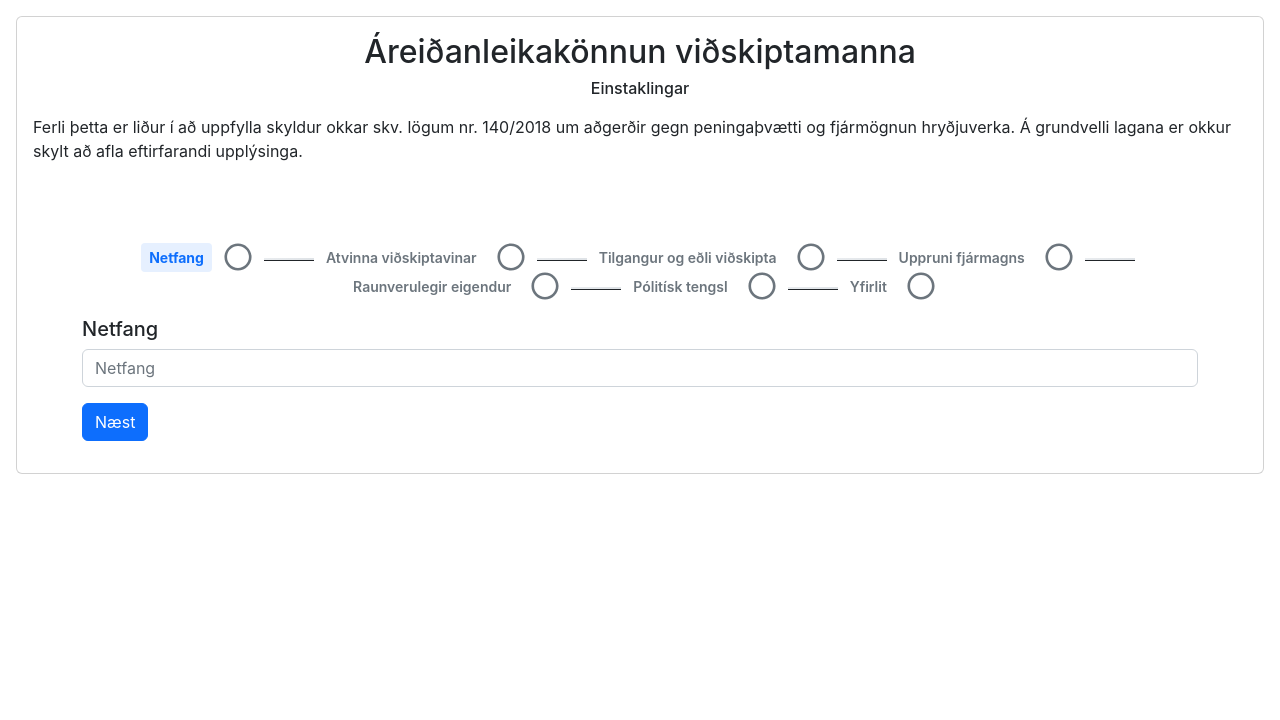
Scenario: Click on steps and check the form › should produce the correct form when step four is clicked
The width and height of the screenshot is (1280, 720).
Click the element with id "step-3".
click(1059, 257)  # box [1045, 243, 1073, 271]
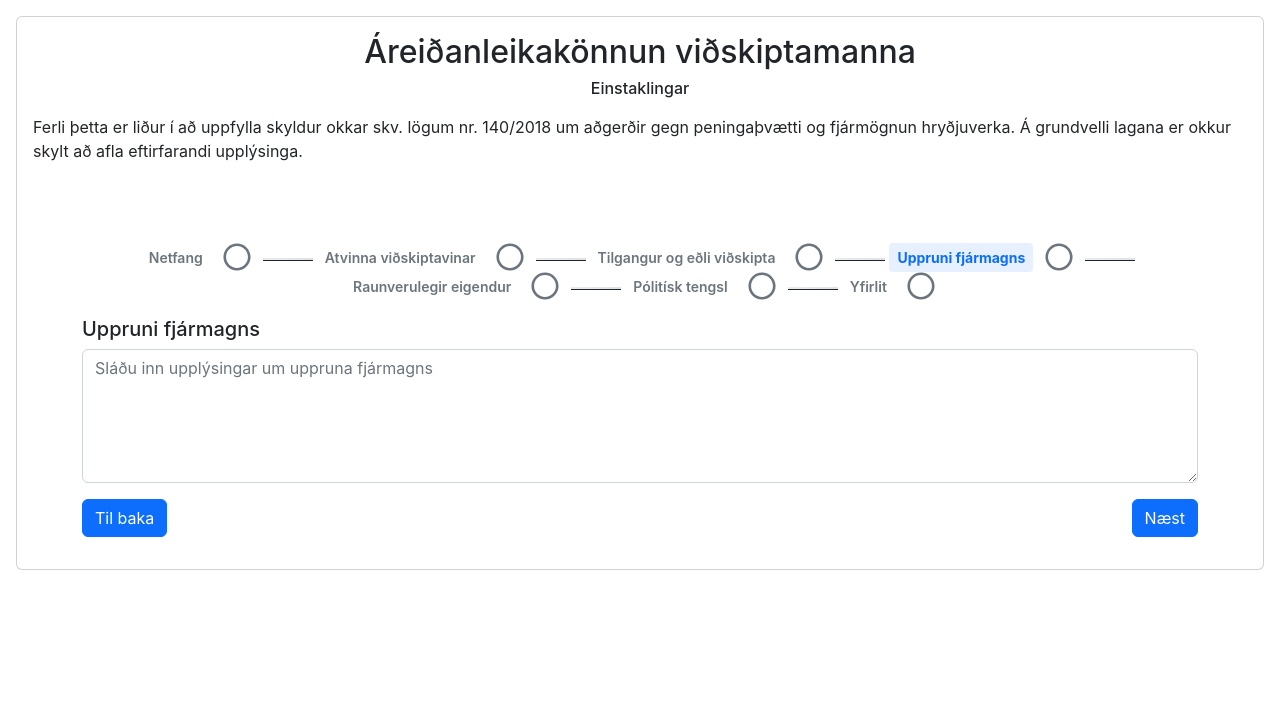
Check: the text box with placeholder "Sláðu inn upplýsingar um uppruna fjármagns" is shown, box [82, 349, 1198, 483]
